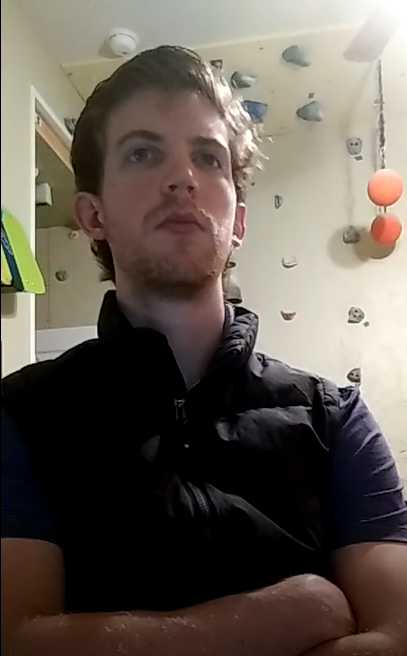Not Sleeping: (114, 129, 234, 177)
